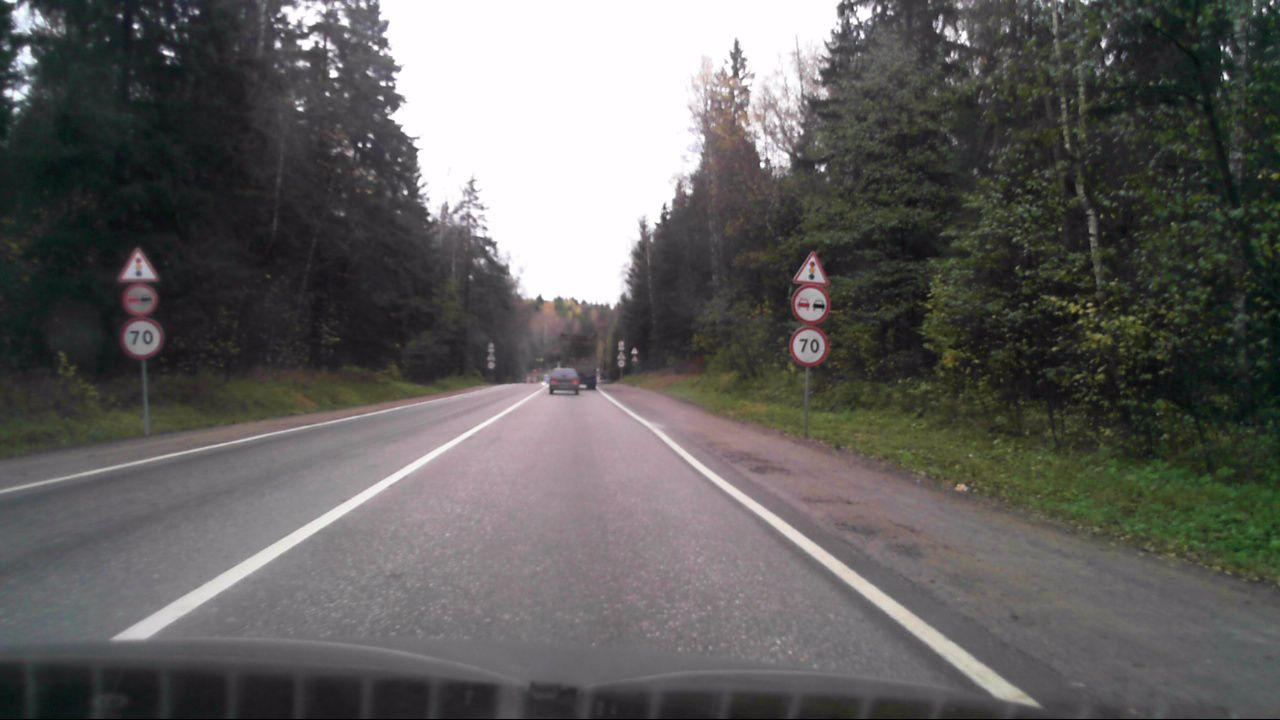1_8: (117, 248, 164, 283), (790, 250, 835, 284)
3_20: (792, 286, 829, 323), (121, 283, 159, 317)
3_24: (120, 319, 166, 360), (788, 328, 832, 368)
